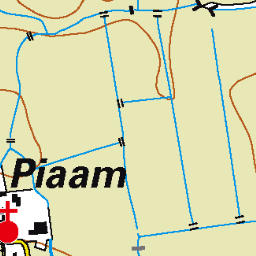church: (1, 199, 21, 245)
